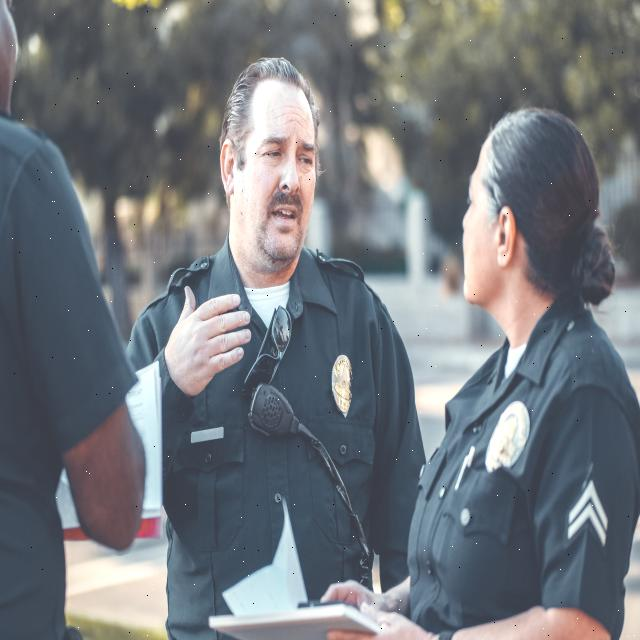police: (151, 19, 405, 619), (384, 91, 622, 640)
